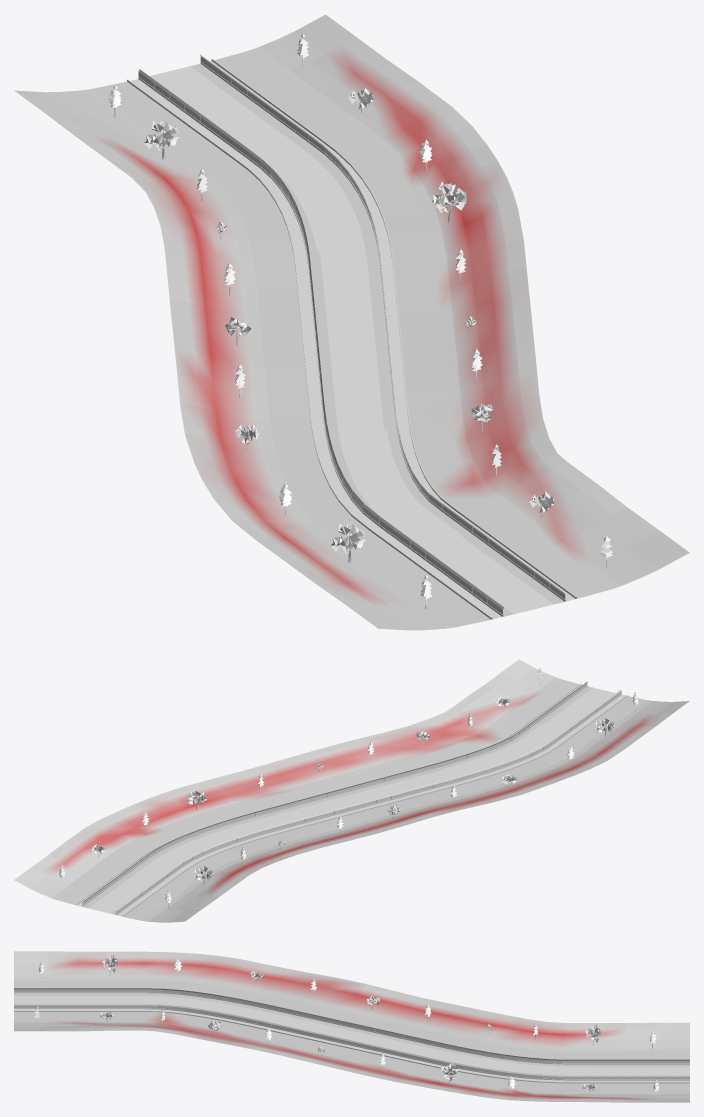
3 renders of one model, top to bottom at view 1: azimuth 30°, elevation 25°; view 2: azimuth 150°, elevation 25°; view 3: azimuth 270°, elevation 25°, orthographic. The views are drawn at different scales.
Visible parts, largest first — view 1: Grass, Road, Track, Wirefence, Trees; view 2: Grass, Road, Track, Wirefence, Trees; view 3: Grass, Wirefence, Road, Track, Trees.
Boxes of the visible parts, x1,y1,x2,y2 form: Grass: (14, 14, 689, 630); Road: (151, 66, 552, 613); Track: (127, 54, 576, 619); Wirefence: (139, 55, 565, 614); Trees: (108, 34, 612, 608); Grass: (14, 659, 689, 922); Road: (89, 688, 614, 913); Track: (76, 683, 627, 916); Wirefence: (82, 681, 621, 913); Trees: (59, 667, 638, 907); Grass: (14, 951, 689, 1102); Wirefence: (14, 988, 689, 1079); Road: (14, 996, 689, 1075); Track: (14, 988, 689, 1083); Trees: (34, 955, 659, 1095).
Size of what is drawn, in the model's own units: 26500 by 1776 by 50000.
